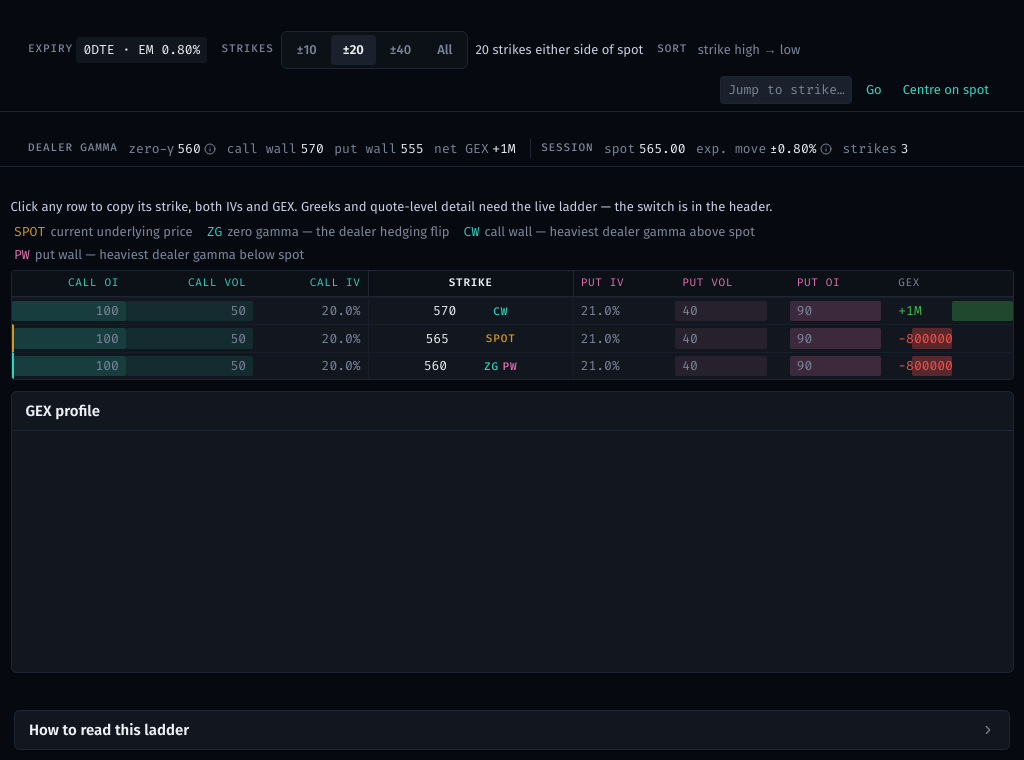
Scenario: OptionsLadderPage — classic ladder › copies strike, both IVs and GEX on click
The width and height of the screenshot is (1024, 760).
Expected: the column heading "call IV" is shown, x1=253 y1=270 x2=368 y2=297
Step 1. Click the row "100 50 20.0% 565SPOT 21.0% 40 90 −800000" → (512, 338), box x1=12 y1=324 x2=1012 y2=352
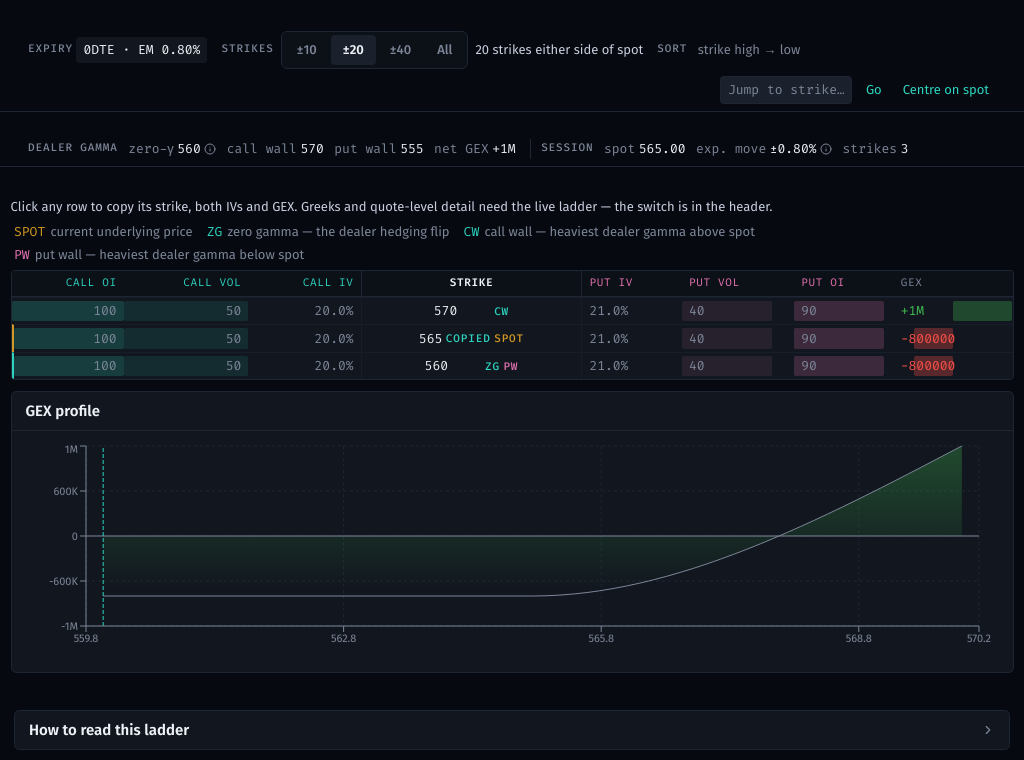
Expected: the text "Copied" is shown, x1=446 y1=331 x2=491 y2=346
